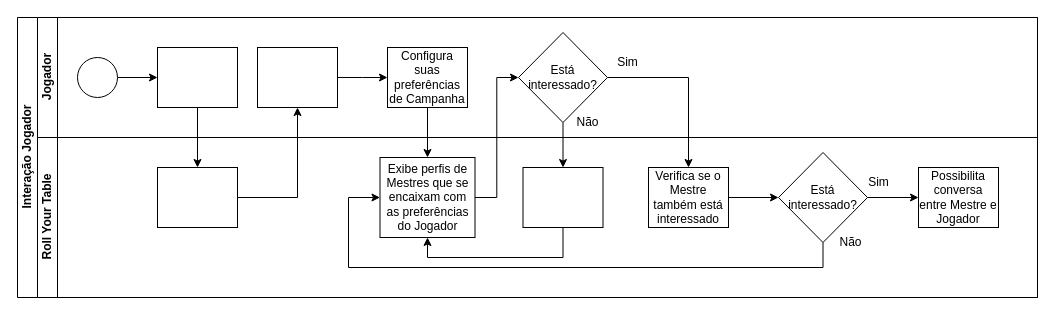
The diagram is 1055 pixels wide and 315 high, and some of its shapes have lost their labels. The centre of each missing label's shape, as x and y in pixels:
Configura seu perfil: the point at 197,77
Escolhe ser um Jogador: the point at 297,77
Início: the point at 97,77
Oculta Mestre: the point at 562,197
Solicita se quer ser Jogador ou Mestre: the point at 197,197
